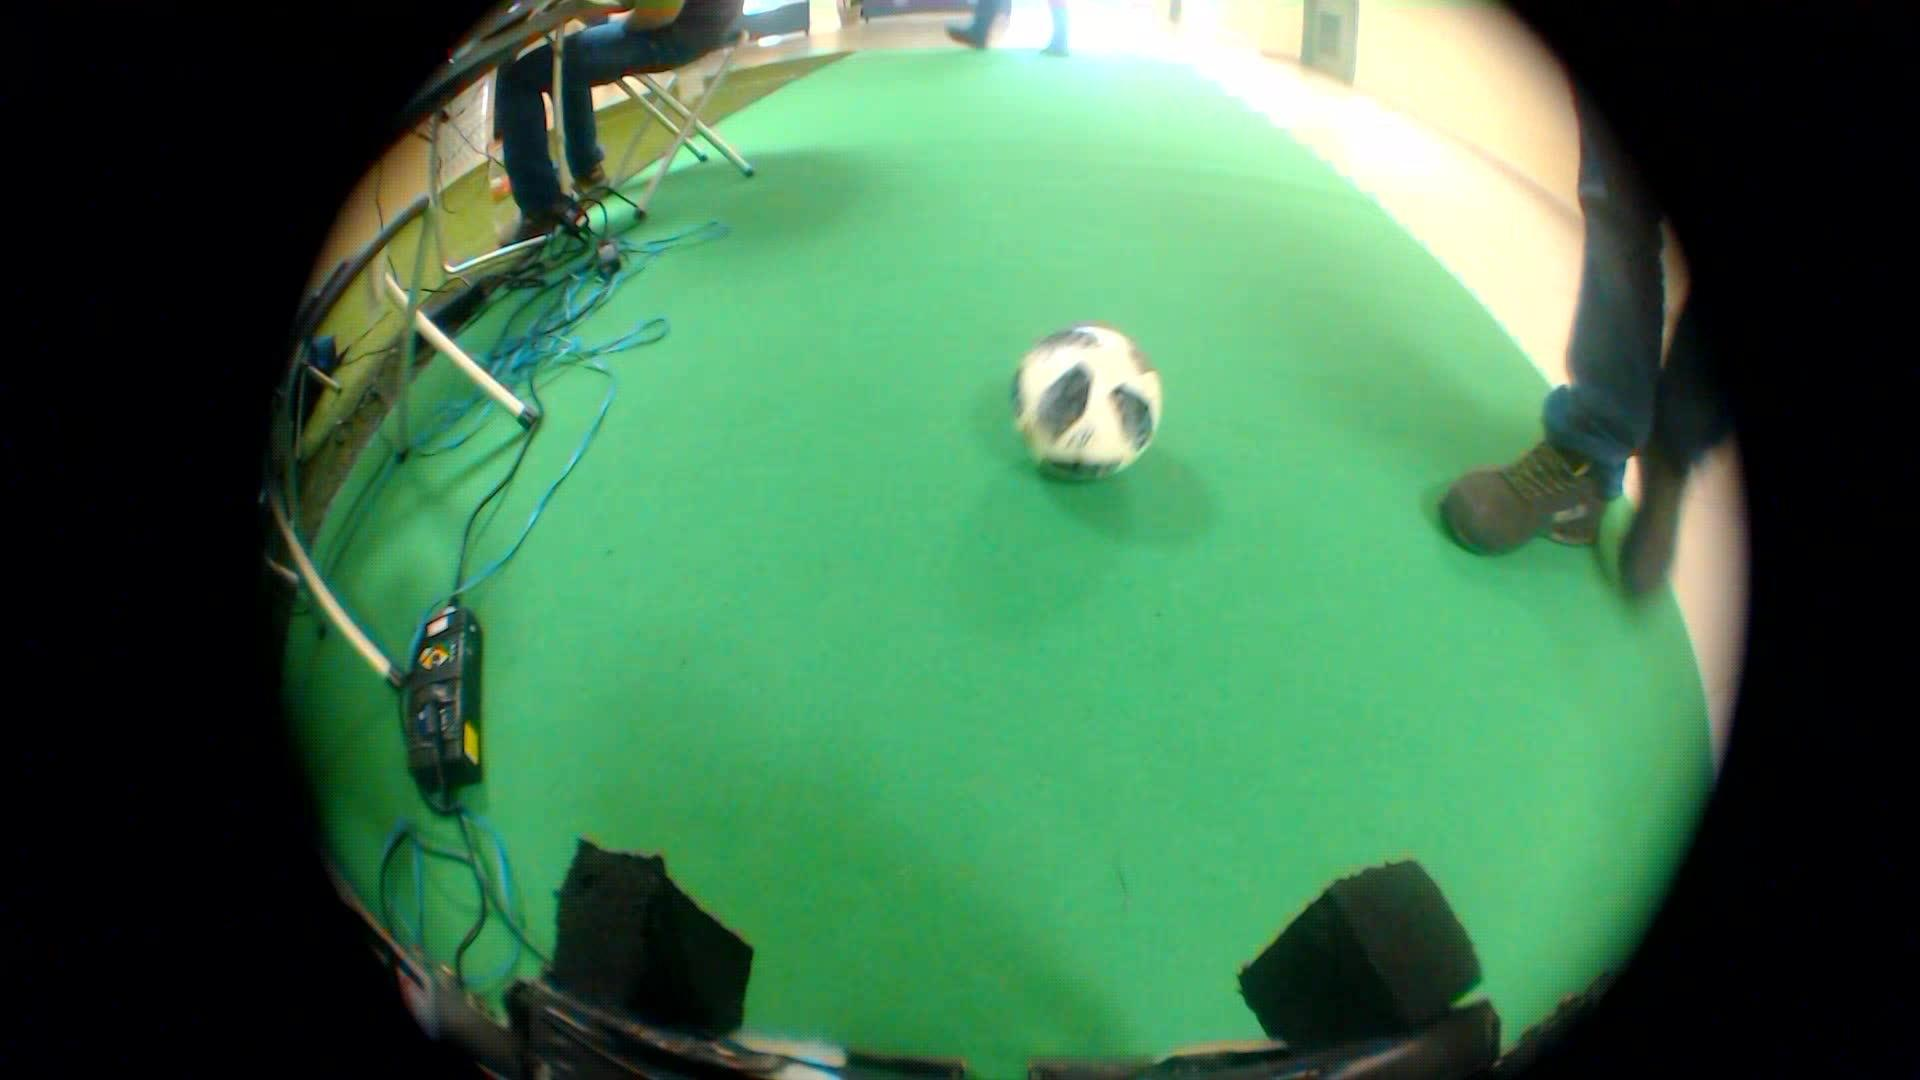ball: (993, 305, 1182, 497)
